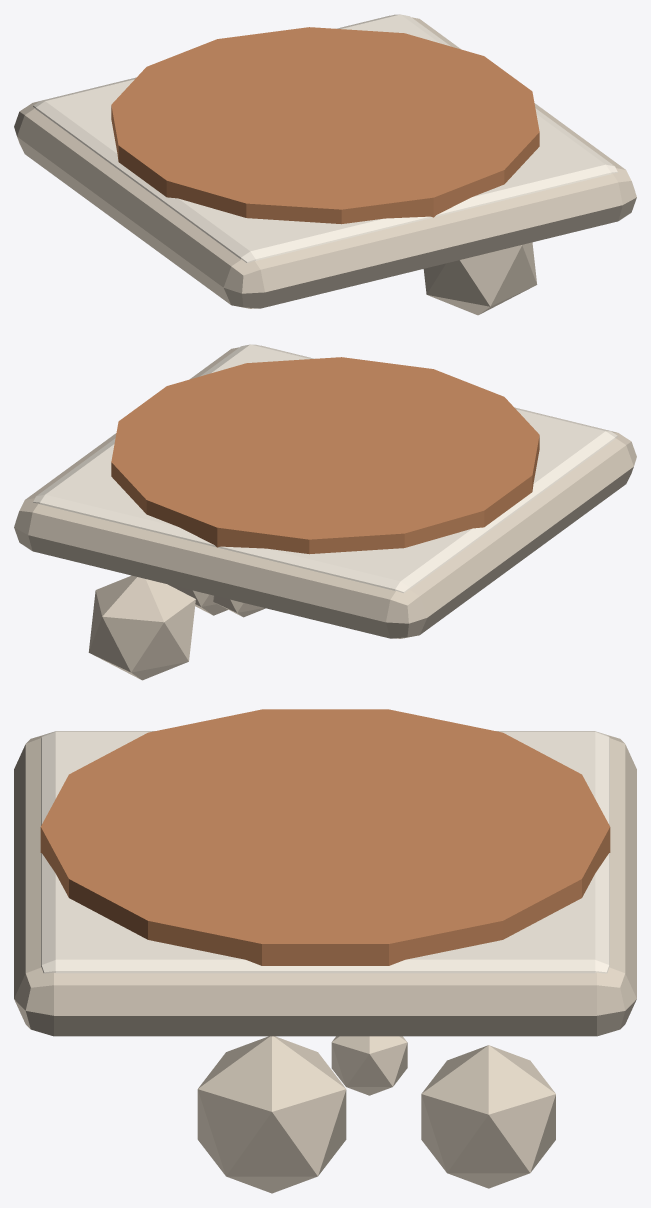
Rendered from island_clean.glb.
3 views of the same model, one above another, from view 1: azimuth 30°, elevation 25°; view 2: azimuth 150°, elevation 25°; view 3: azimuth 270°, elevation 25° (orthographic). The views are drawn at different scales.
Visible parts, largest first — view 1: island_clean; view 2: island_clean; view 3: island_clean.
Boxes of the visible parts, x1,y1,x2,y2 form: island_clean: (14,14,636,315); island_clean: (14,344,636,680); island_clean: (14,709,636,1193).
Size of the model in its own units: 1.56 by 0.7854 by 1.56.
